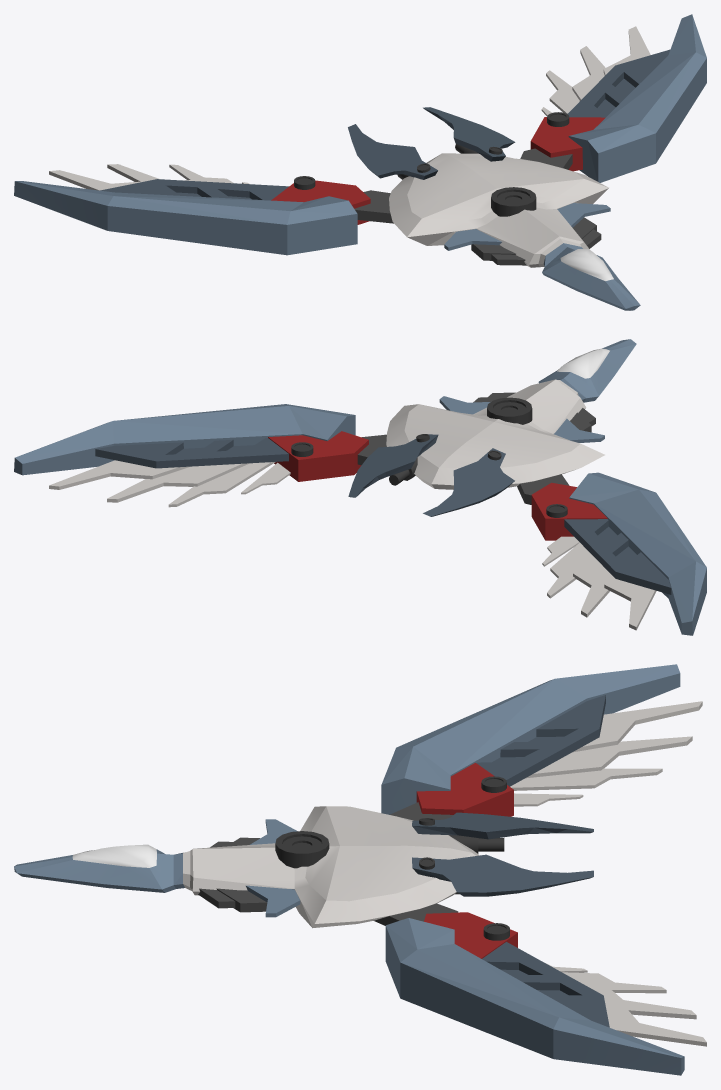
The model's file is mainship_02 (1).fbx.
3 views of the same model, one above another, from view 1: azimuth 30°, elevation 25°; view 2: azimuth 150°, elevation 25°; view 3: azimuth 270°, elevation 25° (orthographic). The views are drawn at different scales.
Parts seen in each view (by area): view 1: pPlane1, polySurface14, polySurface6, polySurface7, polySurface15, polySurface26, polySurface4, polySurface27, polySurface12, pCylinder1, polySurface13, polySurface10 (+6 smaller); view 2: pPlane1, polySurface6, polySurface14, polySurface7, polySurface15, polySurface4, polySurface26, polySurface12, polySurface27, polySurface10, polySurface8, polySurface9 (+9 smaller); view 3: pPlane1, polySurface6, polySurface14, polySurface15, polySurface27, polySurface7, polySurface12, polySurface26, polySurface18, polySurface4, polySurface16, polySurface17 (+8 smaller).
Part boxes in pixels (bbox=[...]): pPlane1: bbox=[389, 153, 640, 310]; polySurface14: bbox=[14, 181, 357, 255]; polySurface6: bbox=[568, 14, 706, 182]; polySurface7: bbox=[567, 49, 670, 117]; polySurface15: bbox=[100, 179, 288, 200]; polySurface26: bbox=[348, 124, 437, 179]; polySurface4: bbox=[530, 117, 605, 171]; polySurface27: bbox=[423, 107, 515, 161]; polySurface12: bbox=[271, 180, 370, 224]; pCylinder1: bbox=[491, 187, 536, 216]; polySurface13: bbox=[354, 190, 393, 223]; polySurface10: bbox=[572, 46, 605, 100]; pPlane1: bbox=[386, 339, 636, 489]; polySurface6: bbox=[14, 404, 355, 475]; polySurface14: bbox=[569, 472, 706, 635]; polySurface7: bbox=[95, 438, 288, 468]; polySurface15: bbox=[564, 519, 671, 594]; polySurface4: bbox=[268, 431, 368, 481]; polySurface26: bbox=[423, 448, 514, 516]; polySurface12: bbox=[531, 482, 607, 540]; polySurface27: bbox=[348, 434, 438, 497]; polySurface10: bbox=[107, 463, 249, 502]; polySurface8: bbox=[49, 460, 189, 489]; polySurface9: bbox=[168, 462, 275, 507]; pPlane1: bbox=[14, 806, 479, 928]; polySurface6: bbox=[385, 918, 684, 1075]; polySurface14: bbox=[381, 664, 680, 814]; polySurface15: bbox=[476, 695, 605, 786]; polySurface27: bbox=[412, 854, 593, 896]; polySurface7: bbox=[482, 942, 609, 1027]; polySurface12: bbox=[416, 763, 513, 816]; polySurface26: bbox=[412, 812, 593, 839]; polySurface18: bbox=[526, 736, 692, 778]; polySurface4: bbox=[424, 912, 517, 958]; polySurface16: bbox=[572, 701, 702, 752]; polySurface17: bbox=[510, 768, 662, 790].
Bounding box in the file's own units: 34.39 × 2.12 × 25.52.
